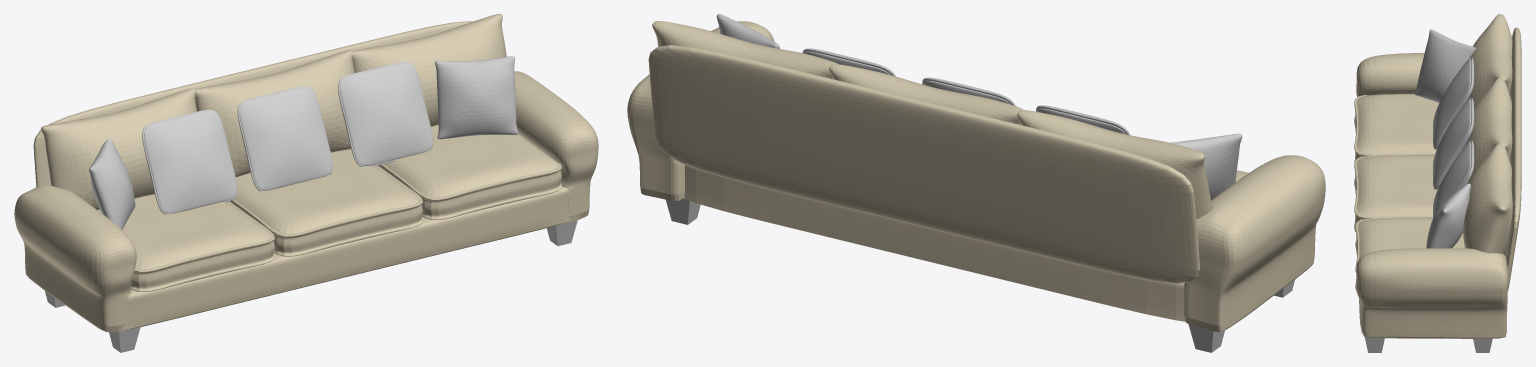
The model's file is largeCouch.obj.
The picture shows the model from 3 angles, left to right: view 1: azimuth 30°, elevation 25°; view 2: azimuth 150°, elevation 25°; view 3: azimuth 270°, elevation 25°; orthographic projection. The views are drawn at different scales.
Visible parts, largest first — view 1: PolyMesh_2, PolyMesh_3, PolyMesh_4_1, PolyMesh_4, PolyMesh_4_2, PolyMesh_2_2, PolyMesh_2_1, PolyMesh_2_3, PolyMesh_1_5, PolyMesh_1, PolyMesh_3_1, PolyMesh_1_2 (+5 smaller); view 2: PolyMesh_1_1, PolyMesh_2, PolyMesh_3, PolyMesh_1_5, PolyMesh_3_1, PolyMesh_1_4, PolyMesh_1, PolyMesh_1_3, PolyMesh_1_2, PolyMesh_2_1, PolyMesh_2_3, PolyMesh_2_2 (+2 smaller); view 3: PolyMesh_3_1, PolyMesh_4_1, PolyMesh_4_2, PolyMesh_1_4, PolyMesh_1, PolyMesh_4, PolyMesh_1_5, PolyMesh_3, PolyMesh_1_3, PolyMesh_1_1, PolyMesh_1_2, PolyMesh_2_3 (+4 smaller).
Part boxes in pixels (x1,y1,x2,y2): PolyMesh_2: (122, 186, 570, 329); PolyMesh_3: (14, 184, 136, 332); PolyMesh_4_1: (230, 149, 423, 256); PolyMesh_4: (378, 125, 562, 219); PolyMesh_4_2: (98, 194, 275, 291); PolyMesh_2_2: (338, 62, 433, 166); PolyMesh_2_1: (142, 109, 237, 214); PolyMesh_2_3: (237, 86, 332, 191); PolyMesh_1_5: (41, 88, 197, 209); PolyMesh_1: (194, 50, 354, 176); PolyMesh_3_1: (514, 71, 598, 223); PolyMesh_1_2: (435, 56, 518, 139); PolyMesh_1_1: (648, 45, 1200, 283); PolyMesh_2: (684, 164, 1184, 321); PolyMesh_3: (1184, 155, 1325, 332); PolyMesh_1_5: (1017, 110, 1212, 219); PolyMesh_3_1: (627, 21, 774, 200); PolyMesh_1_4: (652, 21, 837, 78); PolyMesh_1: (829, 64, 1023, 124); PolyMesh_1_3: (1170, 133, 1242, 199); PolyMesh_1_2: (716, 14, 779, 48); PolyMesh_2_1: (1036, 105, 1129, 134); PolyMesh_2_3: (922, 77, 1015, 105); PolyMesh_2_2: (802, 48, 895, 76); PolyMesh_3_1: (1356, 248, 1508, 338); PolyMesh_4_1: (1354, 155, 1437, 231); PolyMesh_4_2: (1354, 94, 1439, 162); PolyMesh_1_4: (1463, 144, 1512, 254); PolyMesh_1: (1468, 78, 1512, 177); PolyMesh_4: (1355, 218, 1464, 289); PolyMesh_1_5: (1470, 14, 1512, 107); PolyMesh_3: (1356, 53, 1424, 96); PolyMesh_1_3: (1414, 29, 1475, 102); PolyMesh_1_1: (1504, 27, 1521, 291); PolyMesh_1_2: (1426, 183, 1470, 248); PolyMesh_2_3: (1433, 98, 1474, 189).
Size of the model in its own units: 7.76 by 2.46 by 2.51.
